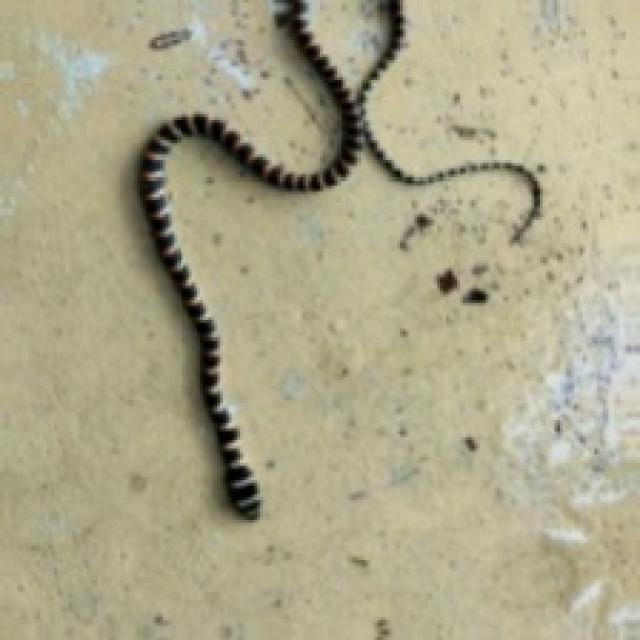paradise tree snake: (137, 0, 537, 517)
